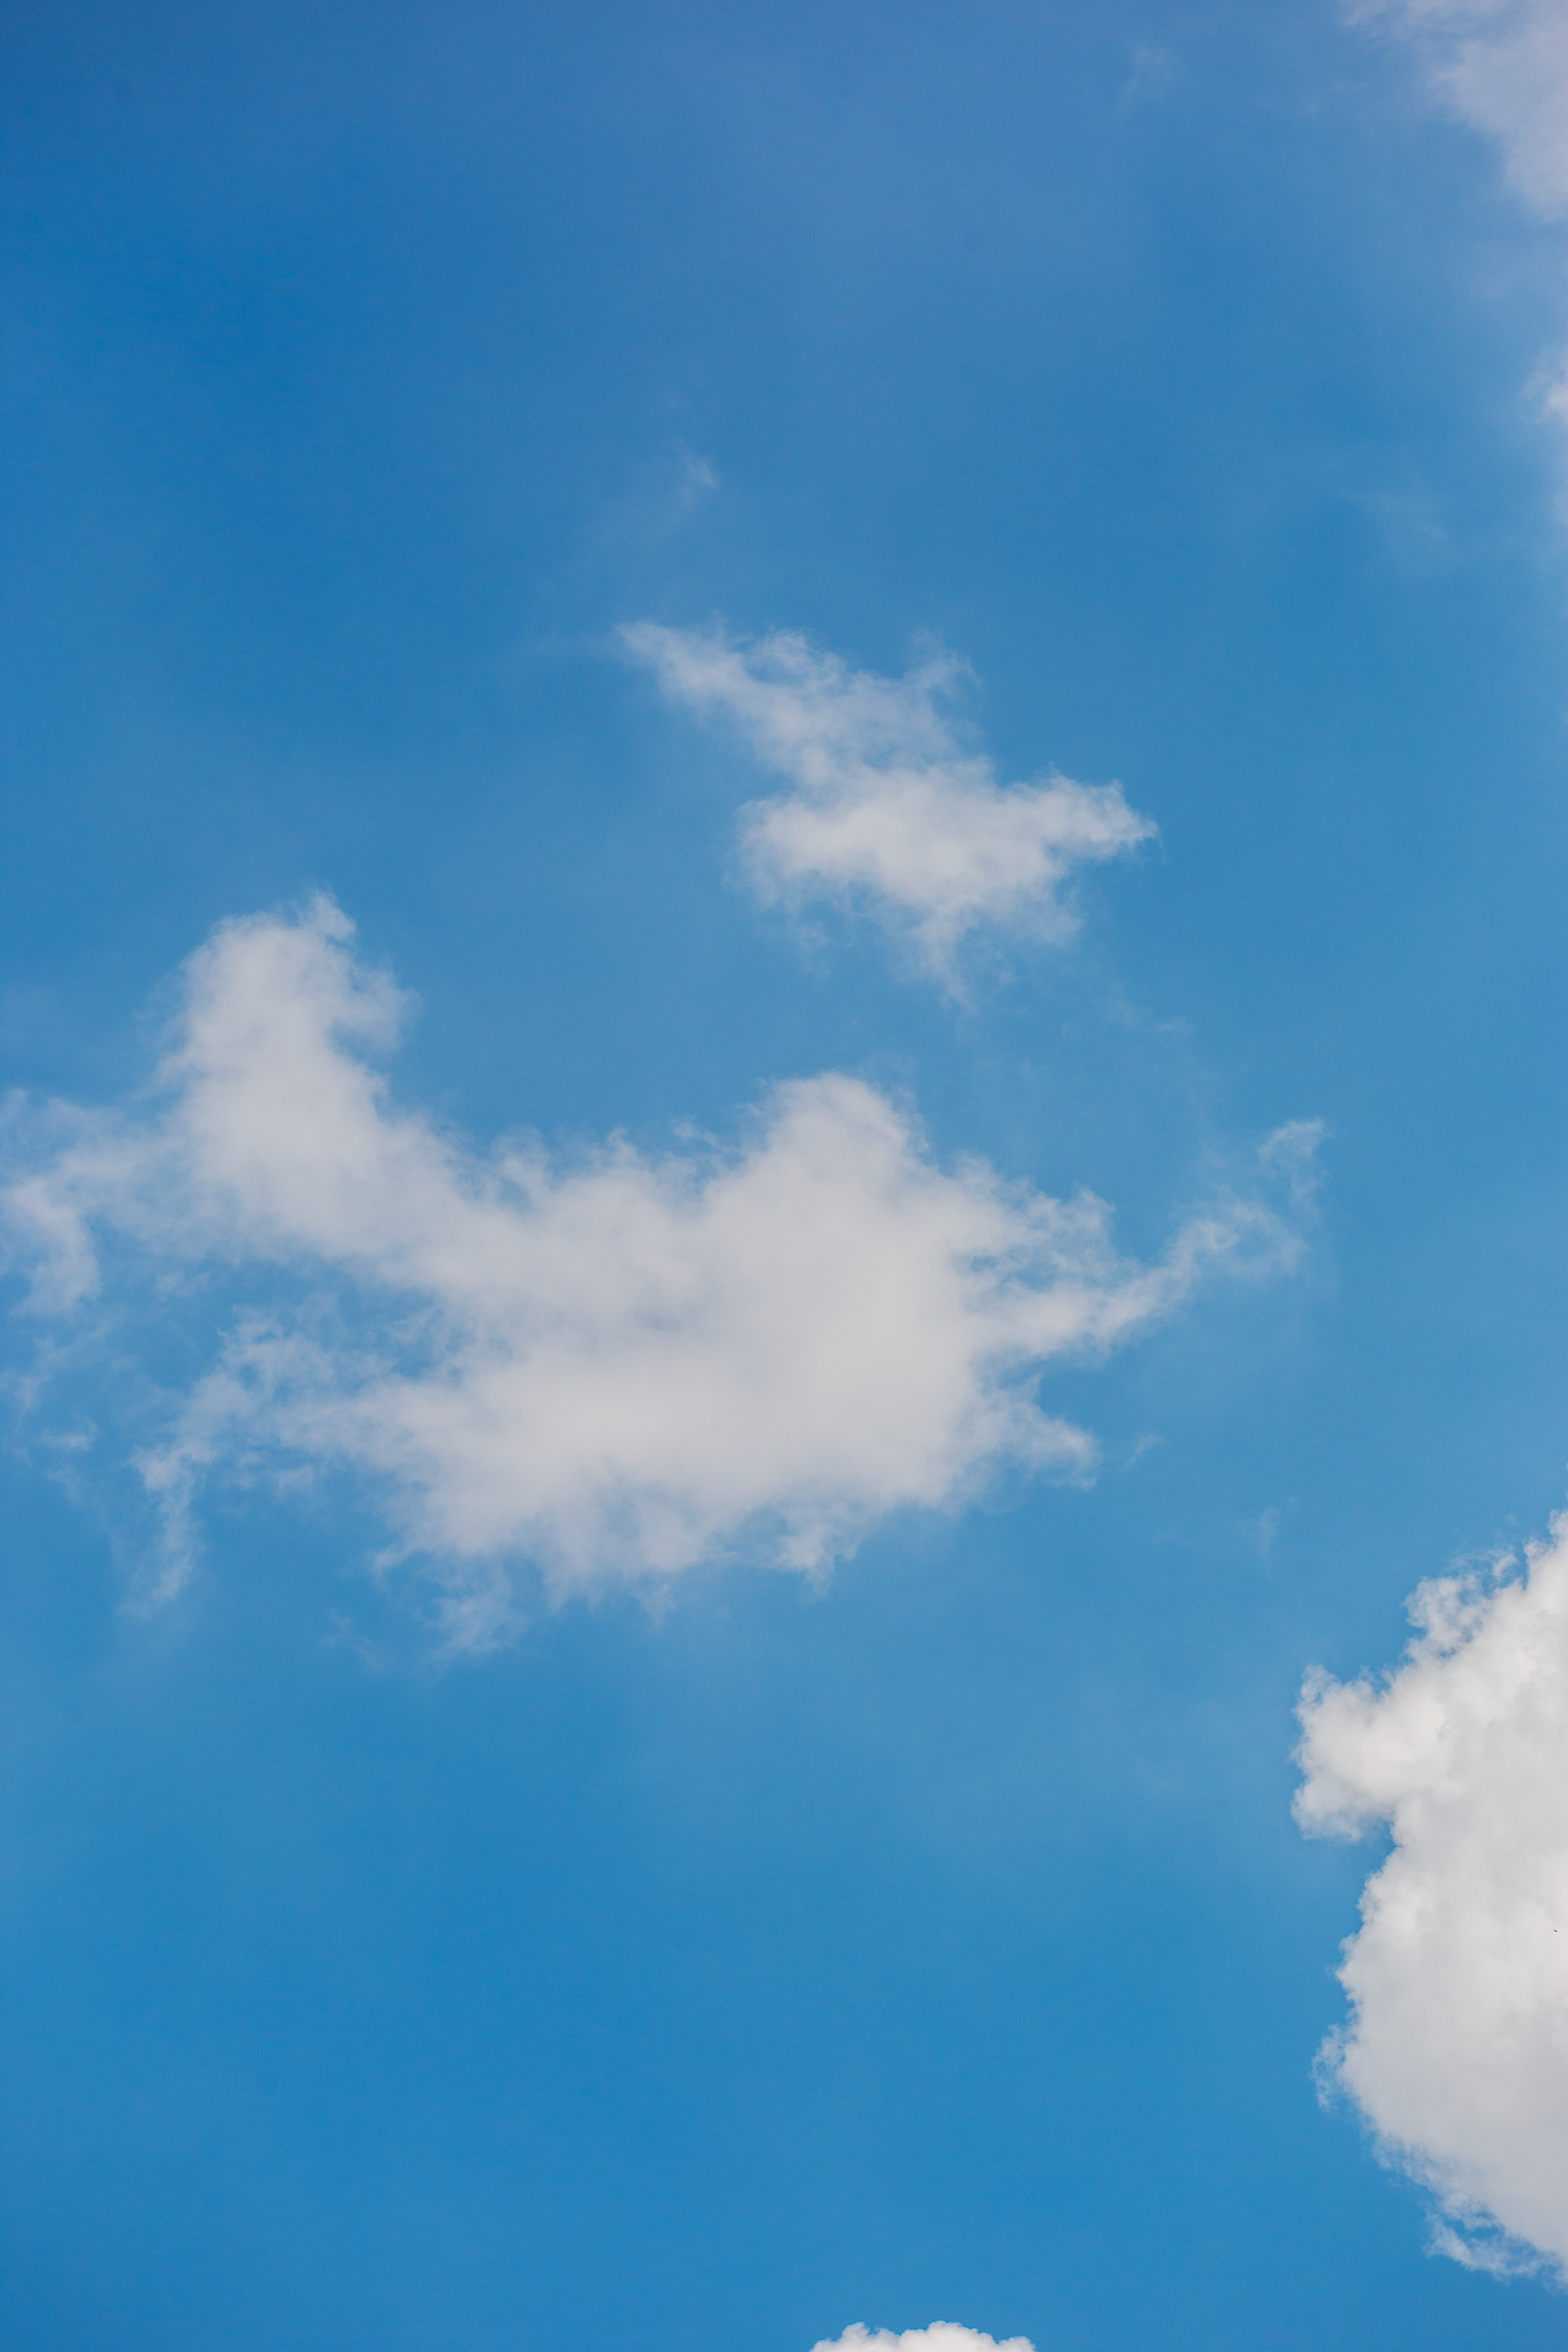Cirrus: (82, 856, 1220, 1746), (570, 511, 1230, 990)
